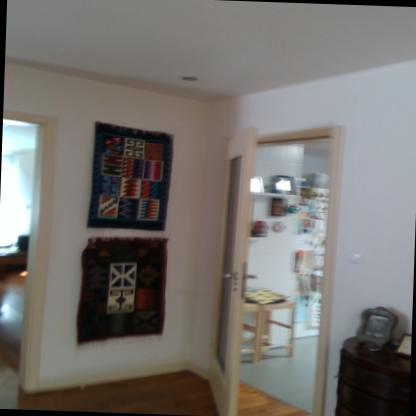open: (0, 99, 67, 408)
semi: (207, 110, 351, 415)
